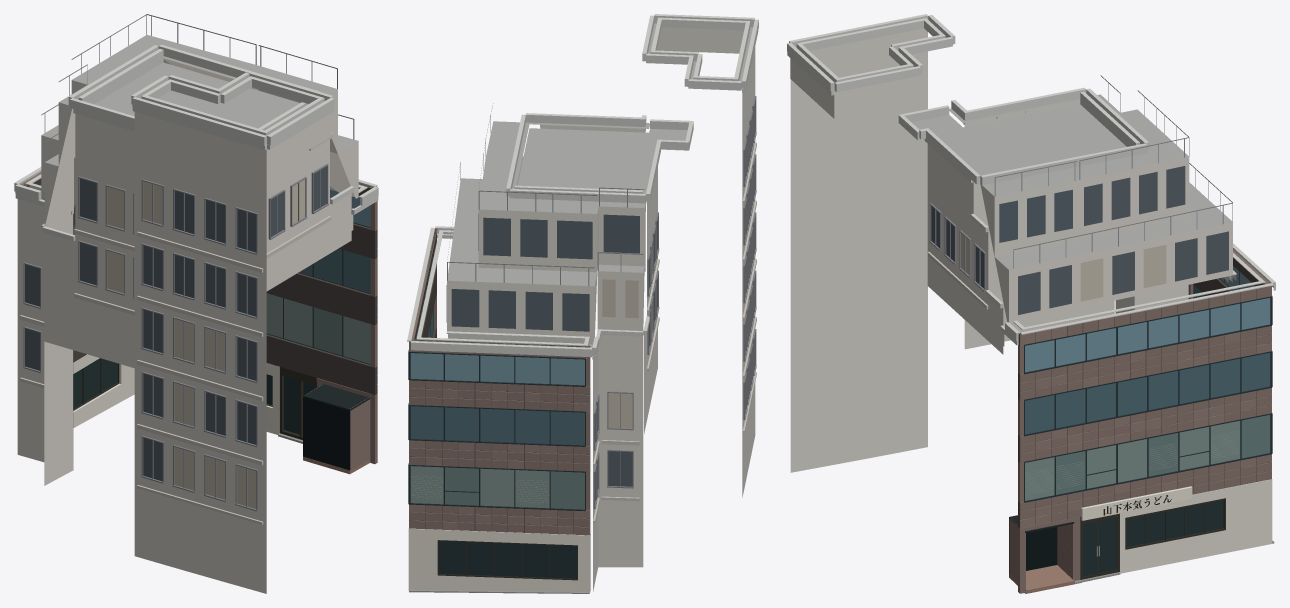
Rendered from d16-dogenzaka-corner-composite.glb.
3 views of the same model, side by side, from view 1: azimuth 30°, elevation 25°; view 2: azimuth 150°, elevation 25°; view 3: azimuth 270°, elevation 25° (orthographic). The views are drawn at different scales.
Visible parts, largest first — view 1: A_ground_stone_end_piers; view 2: A_ground_stone_end_piers; view 3: A_ground_stone_end_piers.
Part boxes in pixels (x1,y1,x2,y2): A_ground_stone_end_piers: (14,14,378,593); A_ground_stone_end_piers: (407,14,758,593); A_ground_stone_end_piers: (787,14,1275,593).
Bounding box in the file's own units: 16.43 × 25.07 × 25.
1 material, 1 textured.
